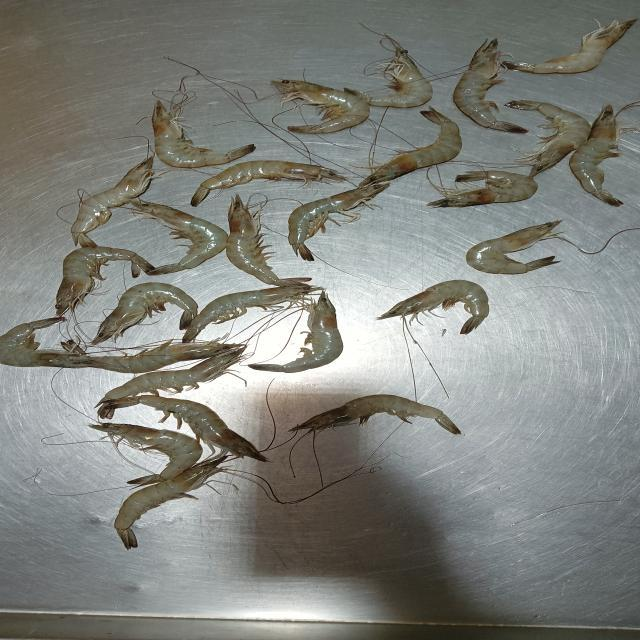shrimp: (101, 396, 266, 460), (115, 455, 226, 547), (288, 179, 389, 259), (100, 348, 243, 404), (183, 282, 318, 341), (501, 18, 637, 74), (360, 109, 461, 183), (248, 292, 342, 371), (72, 155, 153, 246), (129, 202, 227, 274), (291, 394, 459, 435), (191, 160, 344, 205), (90, 423, 201, 485), (453, 39, 527, 131), (154, 100, 255, 167), (56, 247, 154, 316), (93, 282, 197, 343), (507, 100, 590, 176), (66, 340, 239, 374), (379, 280, 488, 333), (569, 105, 625, 205), (270, 79, 370, 134), (227, 195, 287, 286), (467, 220, 560, 274), (366, 40, 432, 107), (428, 170, 537, 207), (1, 318, 82, 367)
